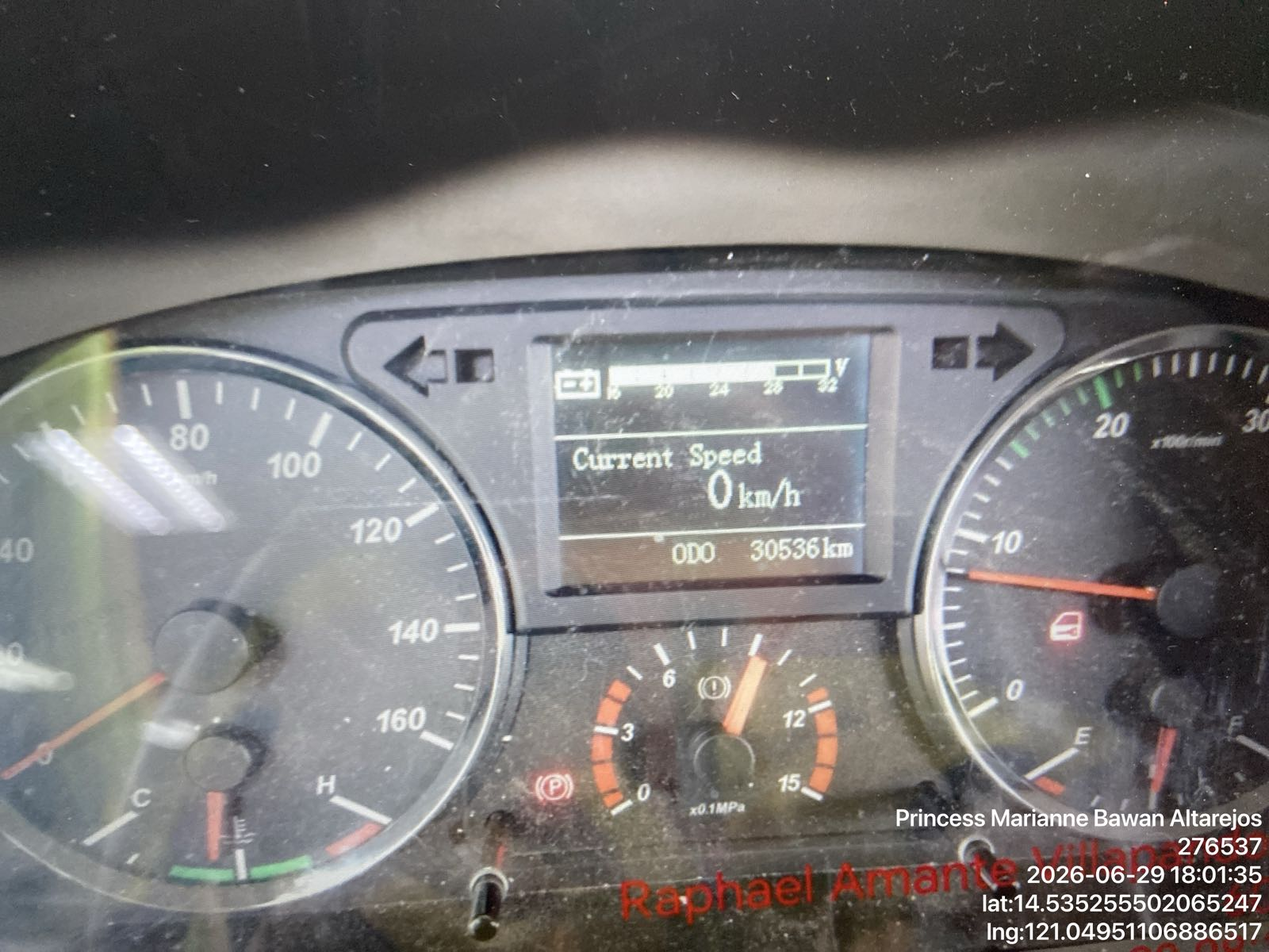pointer_pose: (254, 0, 1263, 799)
